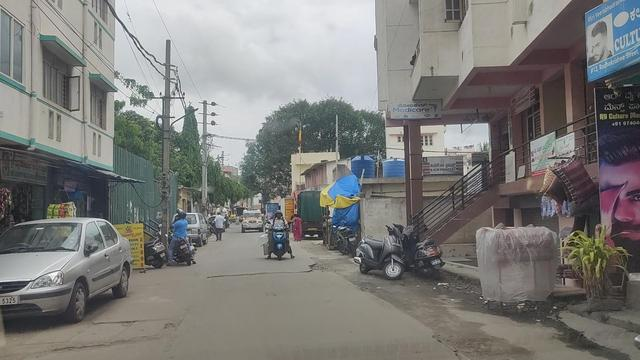LMV: (171, 207, 194, 265), (268, 211, 291, 260)
RoadDamages: (61, 317, 167, 356), (205, 261, 337, 285), (423, 333, 507, 358), (354, 281, 381, 299)
